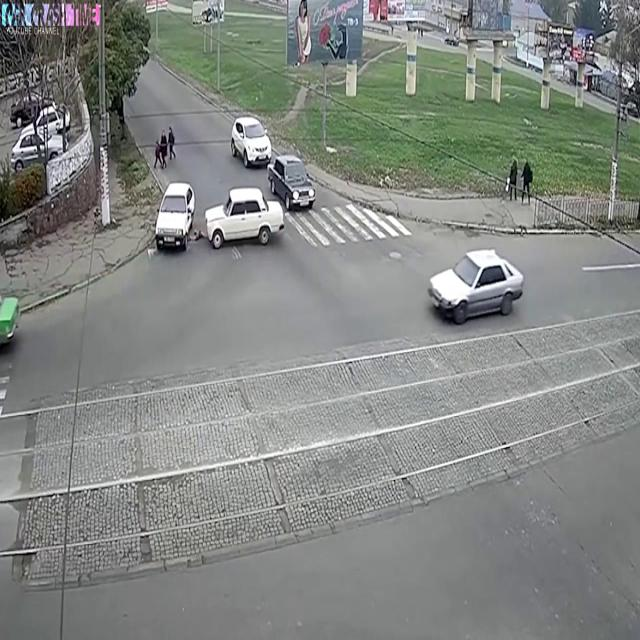accident: (150, 176, 289, 260)
